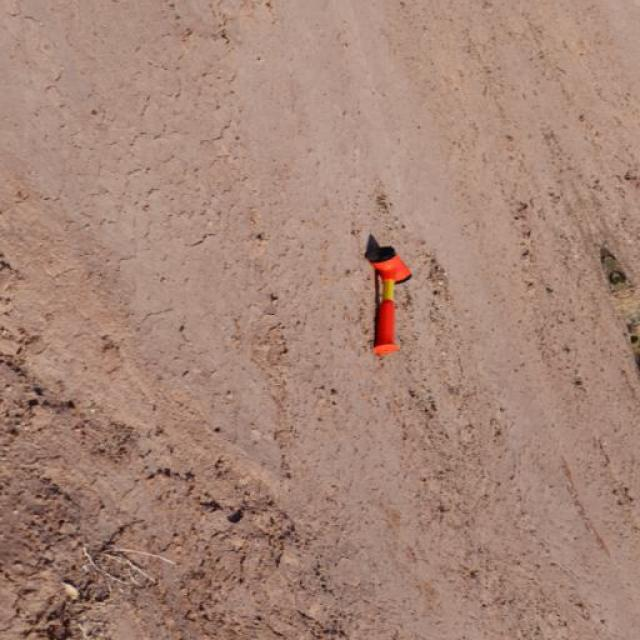mallet: (362, 245, 412, 356)
